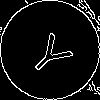Y: (25, 25, 81, 81)
